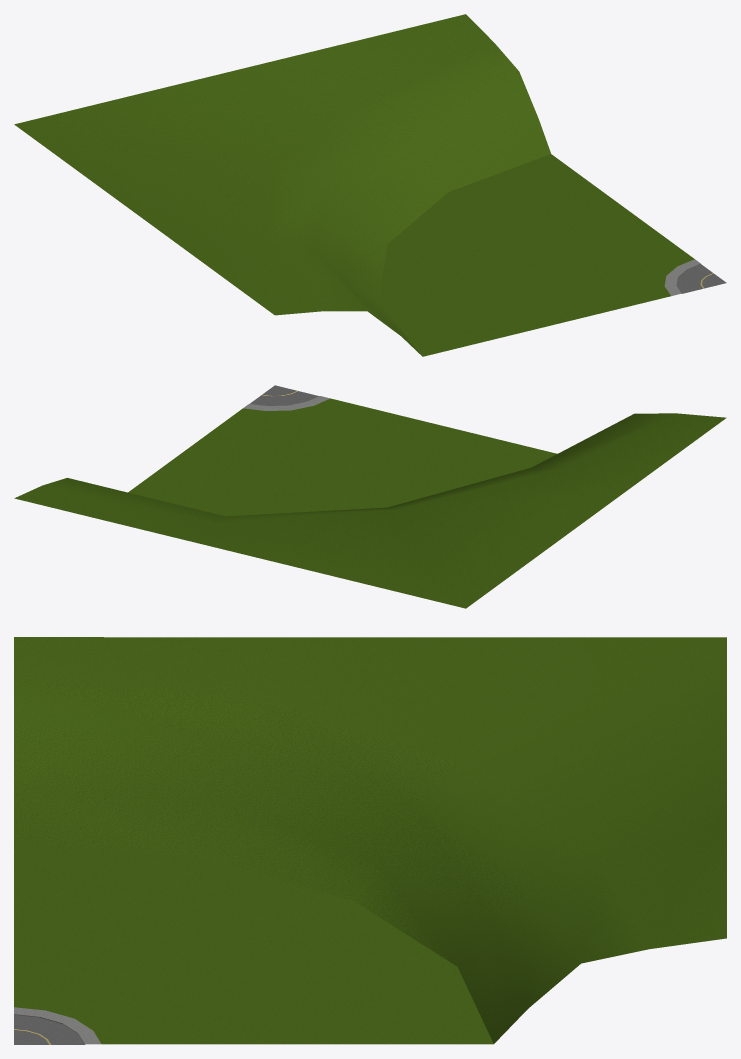
Rendered from ground_90_grass.FBX.
3 views of the same model, one above another, from view 1: azimuth 30°, elevation 25°; view 2: azimuth 150°, elevation 25°; view 3: azimuth 270°, elevation 25° (orthographic). The views are drawn at different scales.
Visible parts, largest first — view 1: ground_90_grass_LOD0; view 2: ground_90_grass_LOD0; view 3: ground_90_grass_LOD0.
Boxes of the visible parts, bbox=[...] form: ground_90_grass_LOD0: bbox=[14, 14, 726, 356]; ground_90_grass_LOD0: bbox=[14, 385, 726, 608]; ground_90_grass_LOD0: bbox=[14, 637, 726, 1044].
Size of what is drawn, in the model's own units: 200 by 32.93 by 200.
